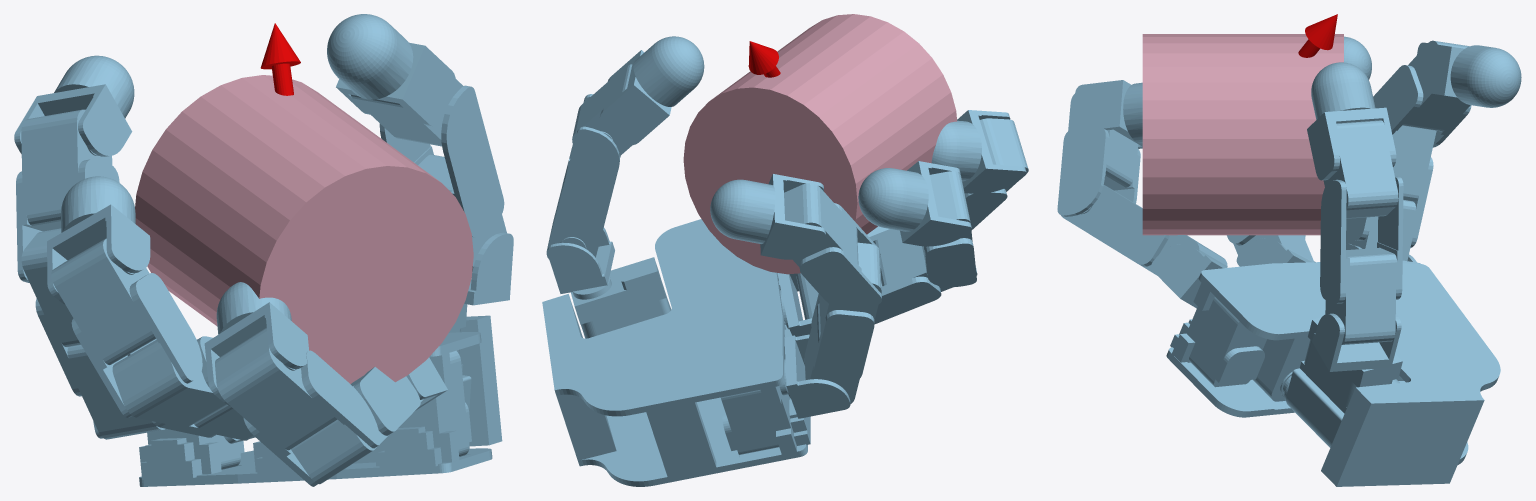
3 renders of one model, left to right at view 1: azimuth 30°, elevation 25°; view 2: azimuth 150°, elevation 25°; view 3: azimuth 270°, elevation 25°, orthographic. The views are drawn at different scales.
Visible parts, largest first — view 1: world, cylinder_medium.stl; view 2: world, cylinder_medium.stl; view 3: world, cylinder_medium.stl.
Part boxes in pixels (x1,y1,x2,y2): world: (14,14,513,486); cylinder_medium.stl: (135,75,473,383); world: (542,36,1028,486); cylinder_medium.stl: (683,14,956,274); world: (1057,14,1521,486); cylinder_medium.stl: (1142,34,1343,235).
Bounding box in the file's own units: 0.1822 × 0.1813 × 0.1843.
